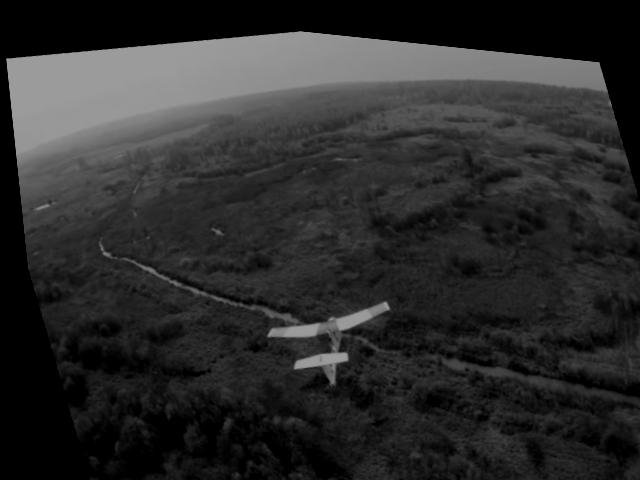hedef: (245, 274, 407, 399)
